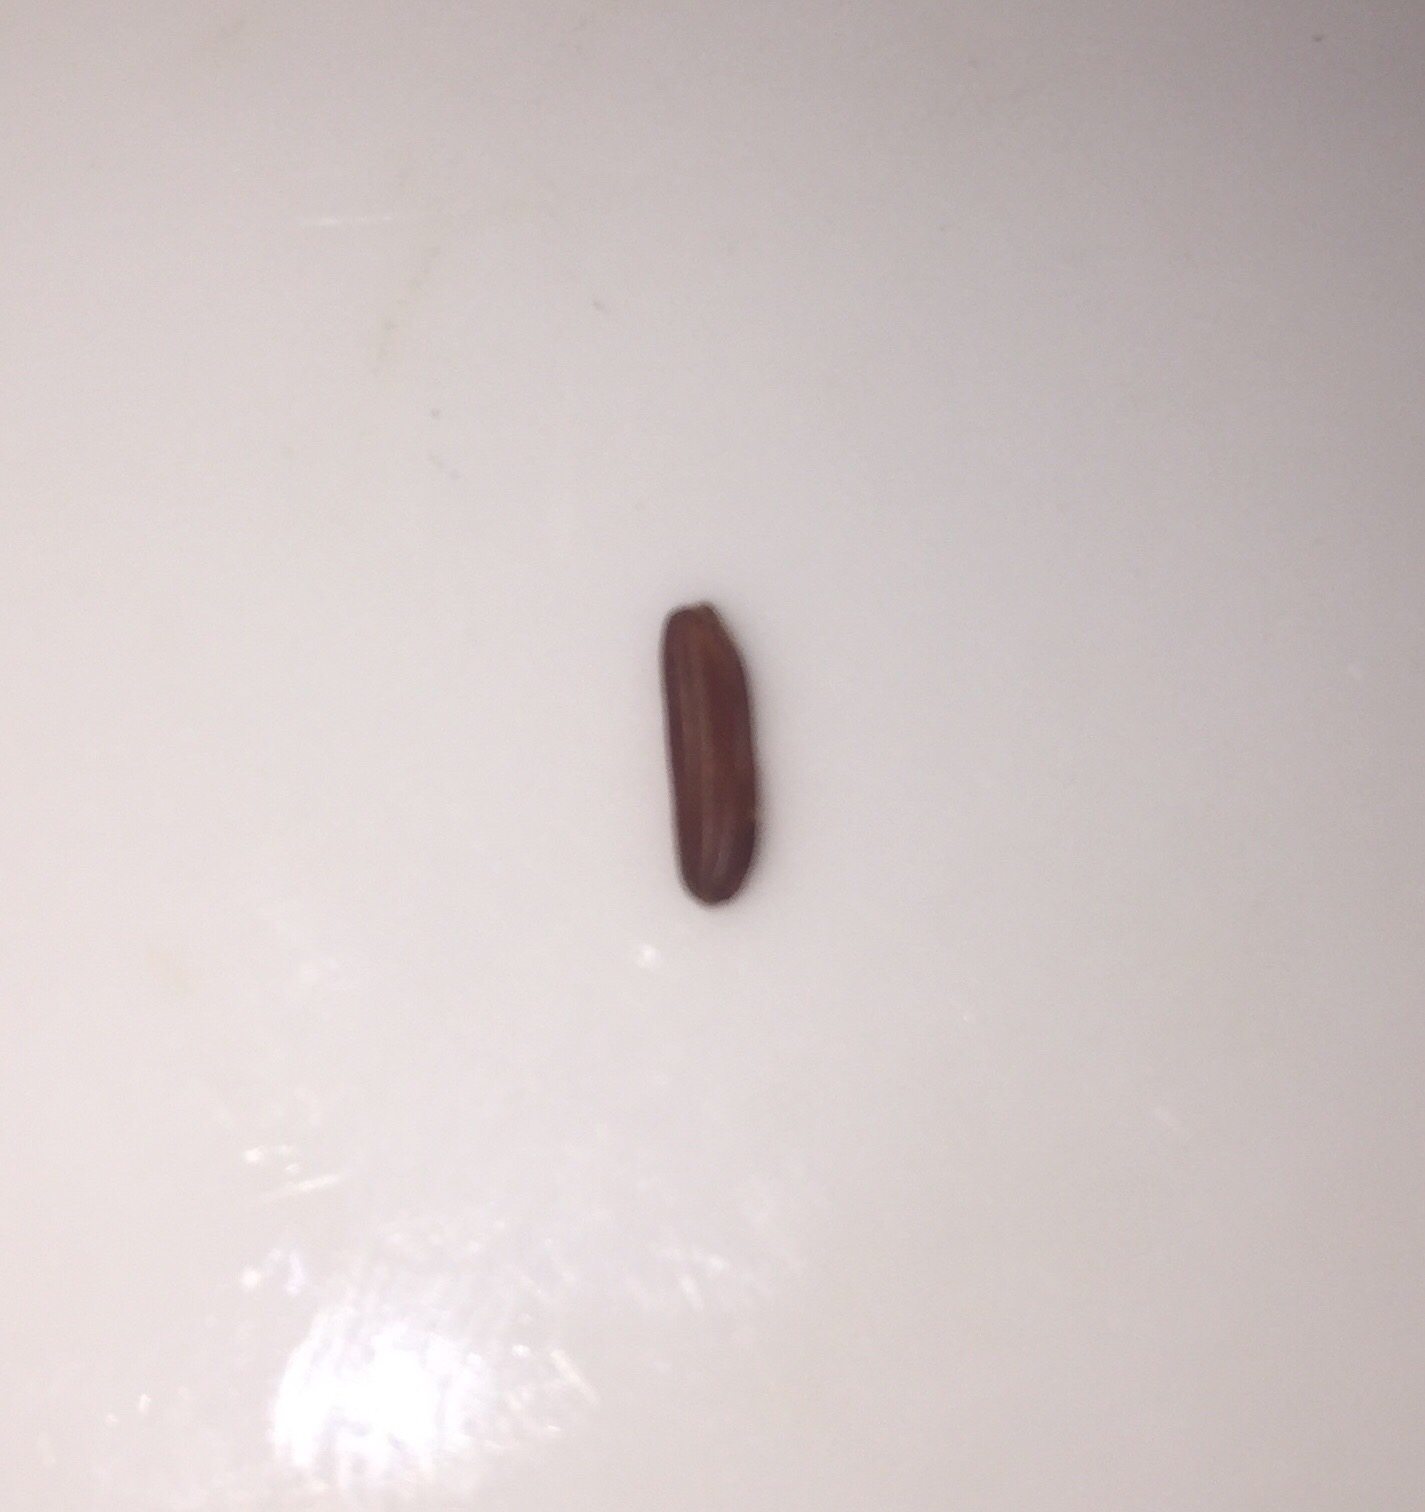Gao Huyet Rong: (648, 581, 771, 931)
